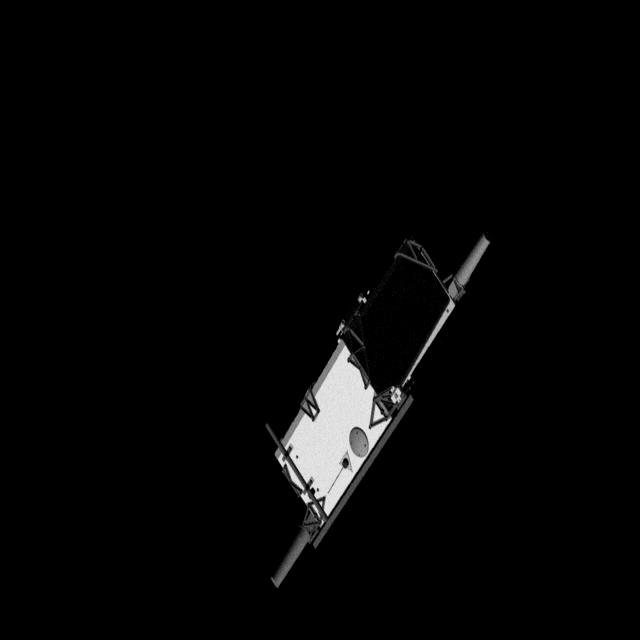satellite: (254, 222, 504, 604)
